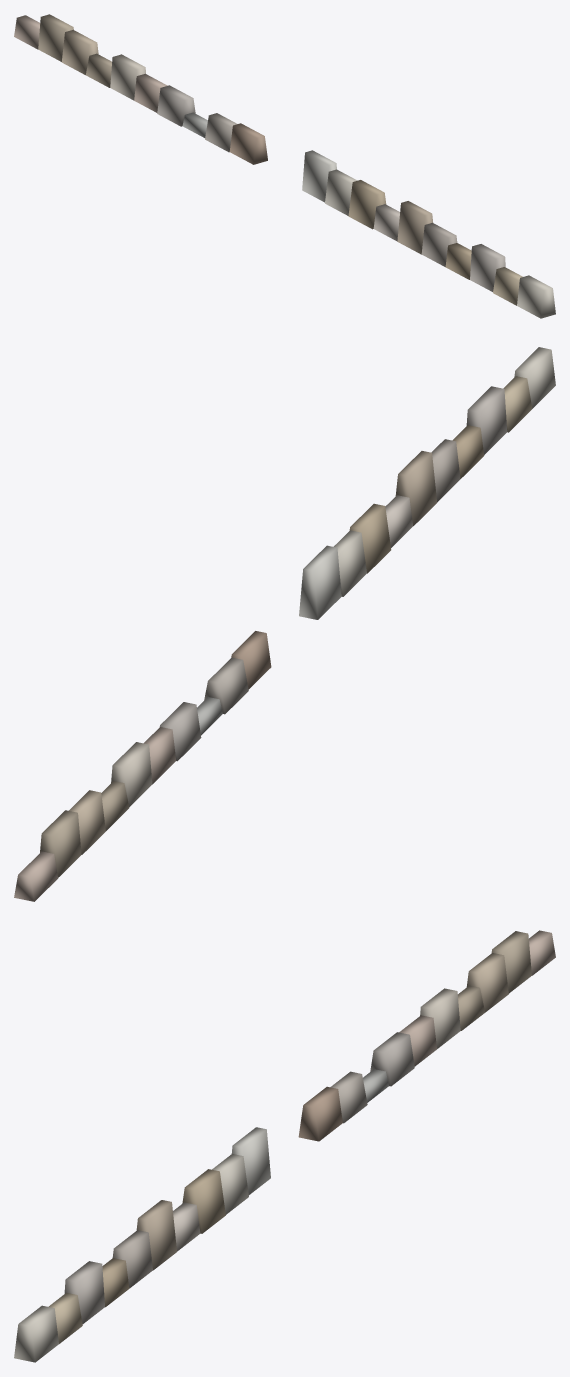
Rendered from farm_32_28_collision.glb.
3 views of the same model, one above another, from view 1: azimuth 30°, elevation 25°; view 2: azimuth 150°, elevation 25°; view 3: azimuth 330°, elevation 25° (orthographic). The views are drawn at different scales.
Parts seen in each view (by area): view 1: geometry_0; view 2: geometry_0; view 3: geometry_0.
Part boxes in pixels (box(x1,y1,x2,y2)): geometry_0: box(14, 14, 555, 318); geometry_0: box(14, 347, 555, 901); geometry_0: box(14, 930, 555, 1362).
Size of the model in its own units: 3.34 by 2.94 by 34.43.
